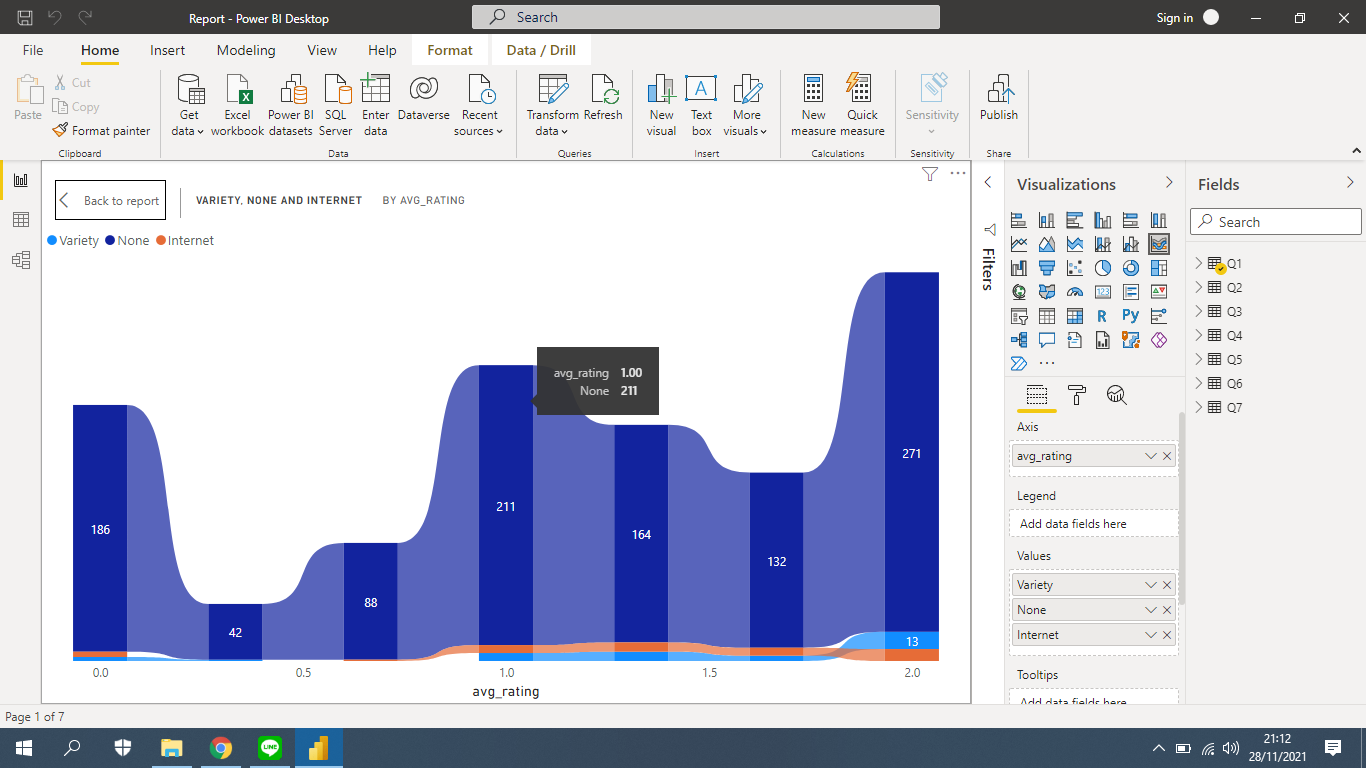

Layout of this report page (visuals, bound fields, positions):
{"tool":"powerbi","page":{"name":"Q1","canvas":[1280,720],"ordinal":0},"visuals":[{"type":"ribbonChart","fields":{"Y":["Sum(Q1.Variety)","Sum(Q1.None)","Sum(Q1.Internet)"],"Category":["Q1.avg_rating"]},"box":[87.7,87.7,655.3,527.4],"z":1}]}

Visuals, with their boxes on the page's 1280x720 design canvas (x1, y1, x2, y2). These are canvas units, not pixel positions in the 1366x768 screenshot, which may show the page scaled, cropped or inside an application window:
ribbonChart - Sum(Q1.Variety) x Sum(Q1.None): crop(88, 88, 743, 615)
